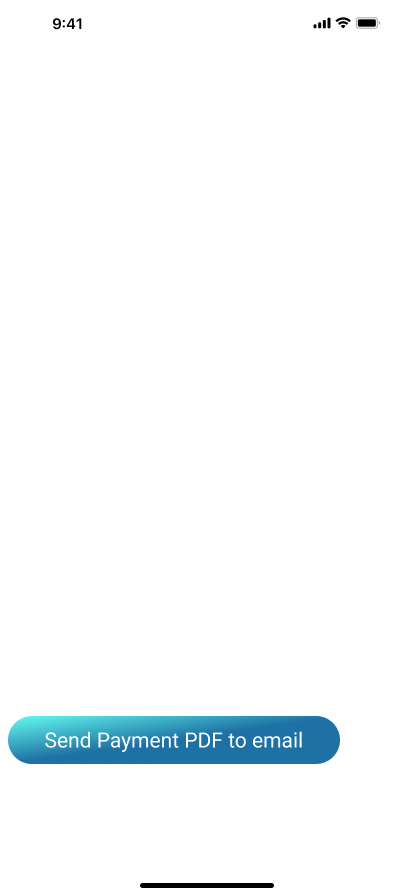Buttons: (8, 716, 340, 764)
Home Indicator: (0, 862, 414, 896)
Status Bar: (0, 0, 414, 44)
